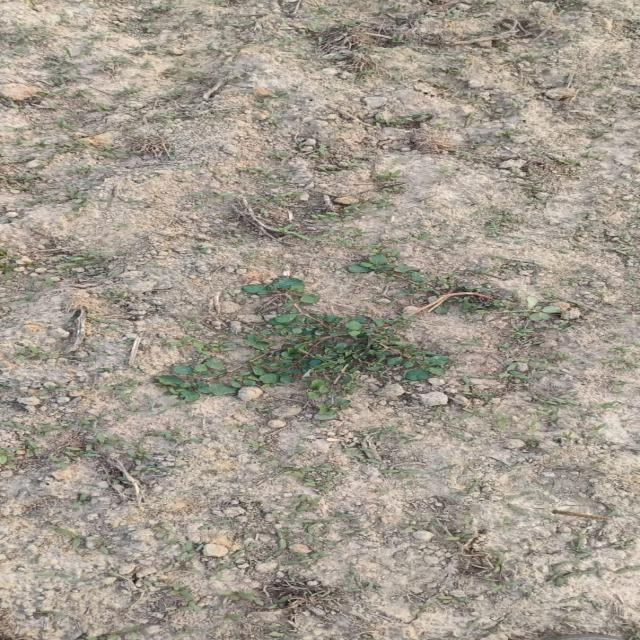plant: (157, 278, 449, 420)
